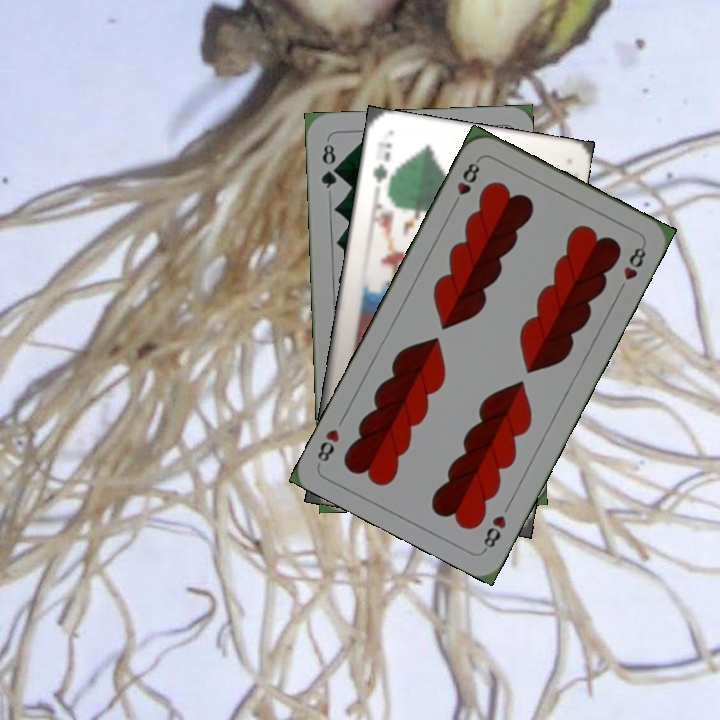G8: (317, 137, 341, 191)
GK: (368, 138, 395, 186)
H8: (448, 155, 483, 210), (479, 511, 509, 553)
